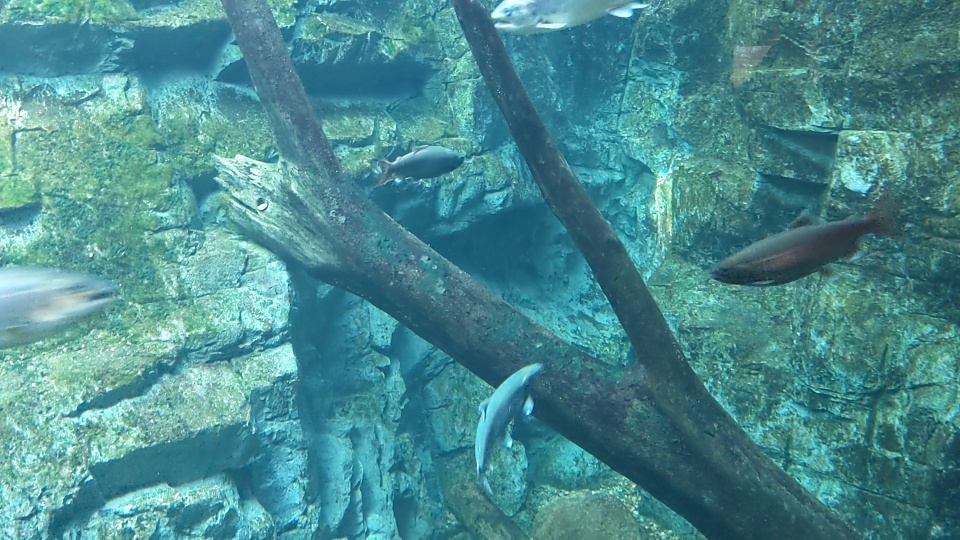Fish: (708, 196, 898, 285), (469, 358, 549, 488), (0, 265, 122, 345), (375, 140, 467, 187)
